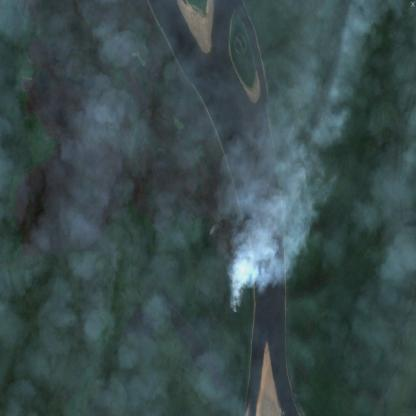fire: (224, 251, 254, 312)
